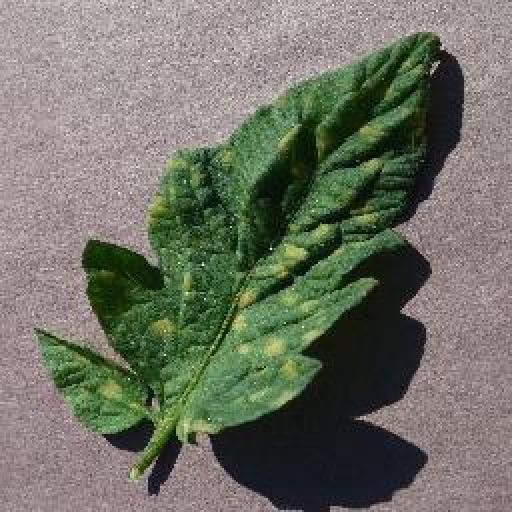Leaf Mold: (39, 28, 443, 440)
